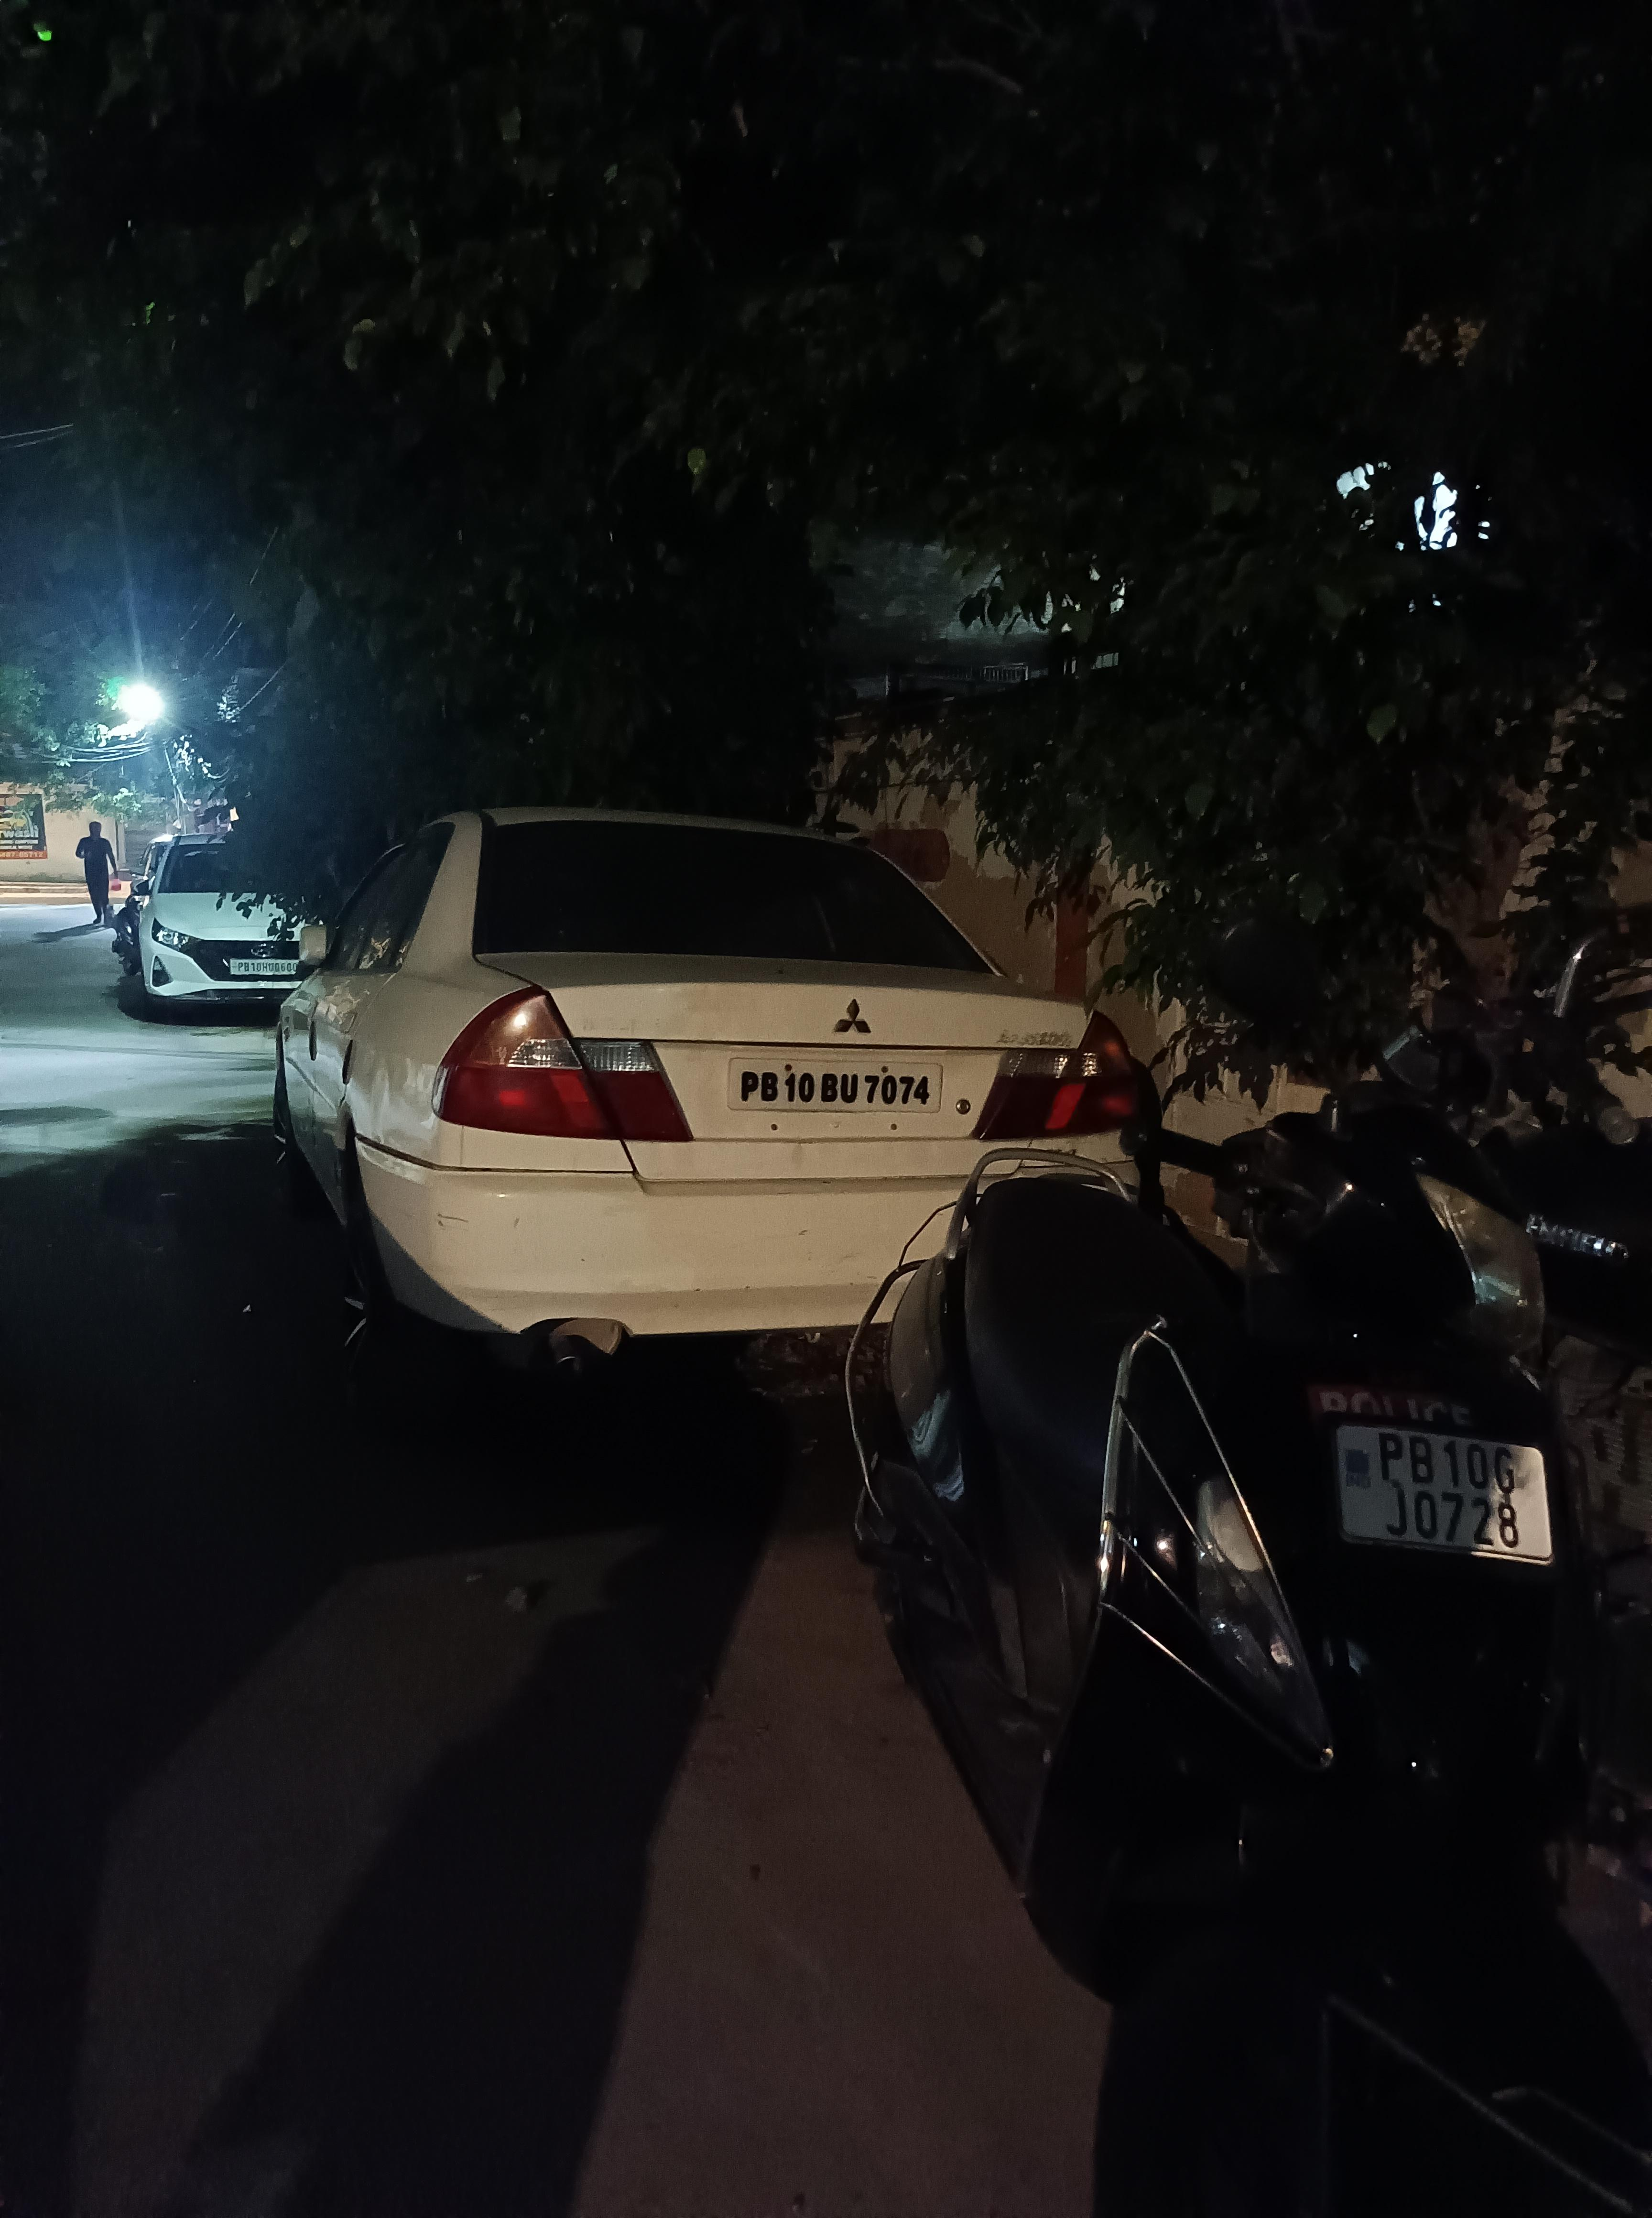license_plate: (724, 1052, 949, 1121)
